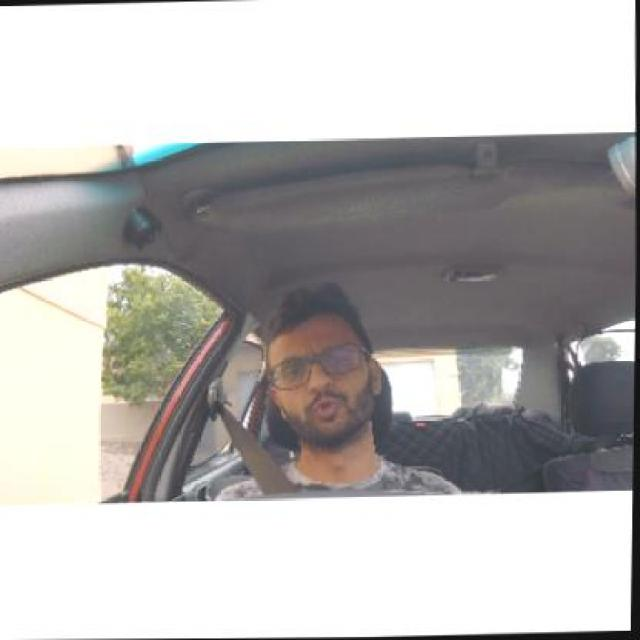person: (255, 283, 385, 452)
